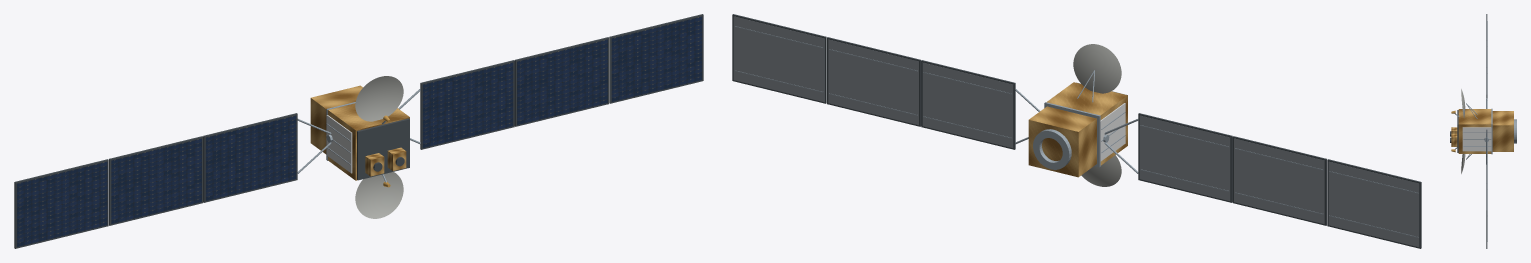
Rendered from ref-dfh-4-31395.glb.
The picture shows the model from 3 angles, left to right: view 1: azimuth 30°, elevation 25°; view 2: azimuth 150°, elevation 25°; view 3: azimuth 270°, elevation 25°; orthographic projection. The views are drawn at different scales.
Visible parts, largest first — view 1: Solar cell panel (×6), Solar panel frame (×6), Communications reflector (×2), Earth-facing deck, Service module, Payload module, Radiator face; view 2: Rear array substrate (×6), Solar panel frame (×6), Service module, Communications reflector (×2), Payload module, Radiator face, Launch adapter ring, Module interface; view 3: Service module, Payload module, Radiator face, Solar panel frame (×6), Communications reflector (×2), Communications feed assembly, Module interface, Earth-facing deck, Launch adapter ring.
Boxes of the visible parts, x1,y1,x2,y2 form: Solar cell panel (×6): (16,16,702,247); Solar panel frame (×6): (14,14,703,248); Communications reflector (×2): (355,76,403,218); Earth-facing deck: (357,118,409,180); Service module: (310,85,362,154); Payload module: (328,103,409,180); Radiator face: (326,115,352,173); Rear array substrate (×6): (733,16,1419,247); Solar panel frame (×6): (732,14,1421,248); Service module: (1028,106,1096,177); Communications reflector (×2): (1073,44,1121,186); Payload module: (1046,82,1127,165); Radiator face: (1100,103,1125,161); Launch adapter ring: (1033,129,1071,169); Module interface: (1044,102,1100,167); Service module: (1492,111,1513,151); Payload module: (1458,109,1491,153); Radiator face: (1462,127,1491,151); Solar panel frame (×6): (1486,14,1487,248); Communications reflector (×2): (1461,89,1465,173); Communications feed assembly: (1451,133,1457,146); Module interface: (1491,108,1492,154); Earth-facing deck: (1457,110,1458,152); Launch adapter ring: (1514,119,1516,143).
Size of the model in its own units: 29.96 by 5.89 by 4.32.
Materials: 8 (2 with a texture image).
